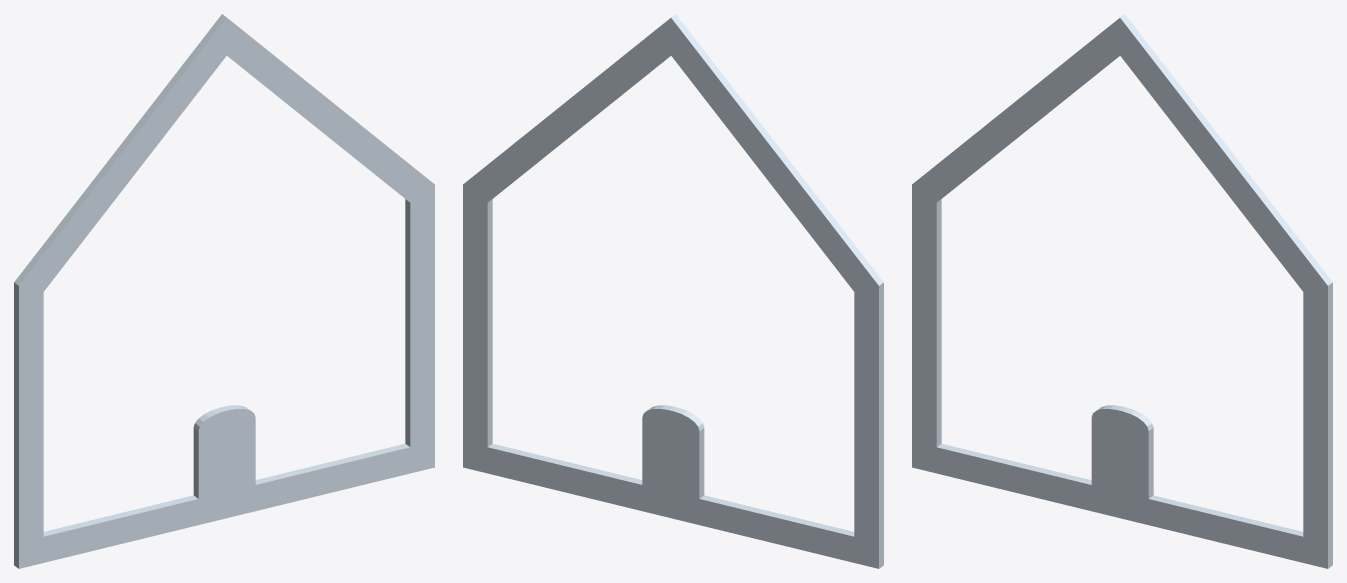
Rendered from Home_3D_Icon_05.fbx.
3 views of the same model, side by side, from view 1: azimuth 30°, elevation 25°; view 2: azimuth 150°, elevation 25°; view 3: azimuth 330°, elevation 25° (orthographic).
Visible parts, largest first — view 1: Home_3D_Icon_05; view 2: Home_3D_Icon_05; view 3: Home_3D_Icon_05.
Part boxes in pixels (bbox=[...]): Home_3D_Icon_05: bbox=[14, 14, 434, 568]; Home_3D_Icon_05: bbox=[463, 14, 883, 568]; Home_3D_Icon_05: bbox=[912, 14, 1332, 568].
Size of the model in its own units: 97.42 by 112 by 2.
